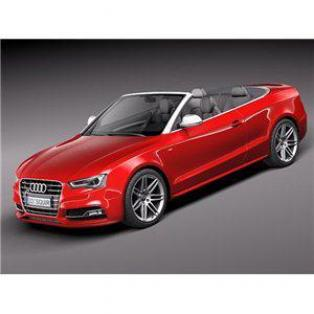Auto: (10, 82, 308, 232)
